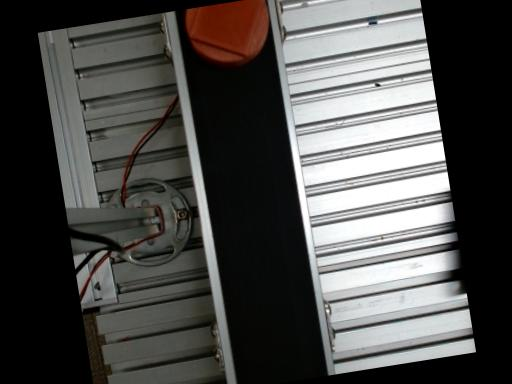Brown_Waper: (184, 0, 268, 66)
Square: (186, 0, 263, 57)
